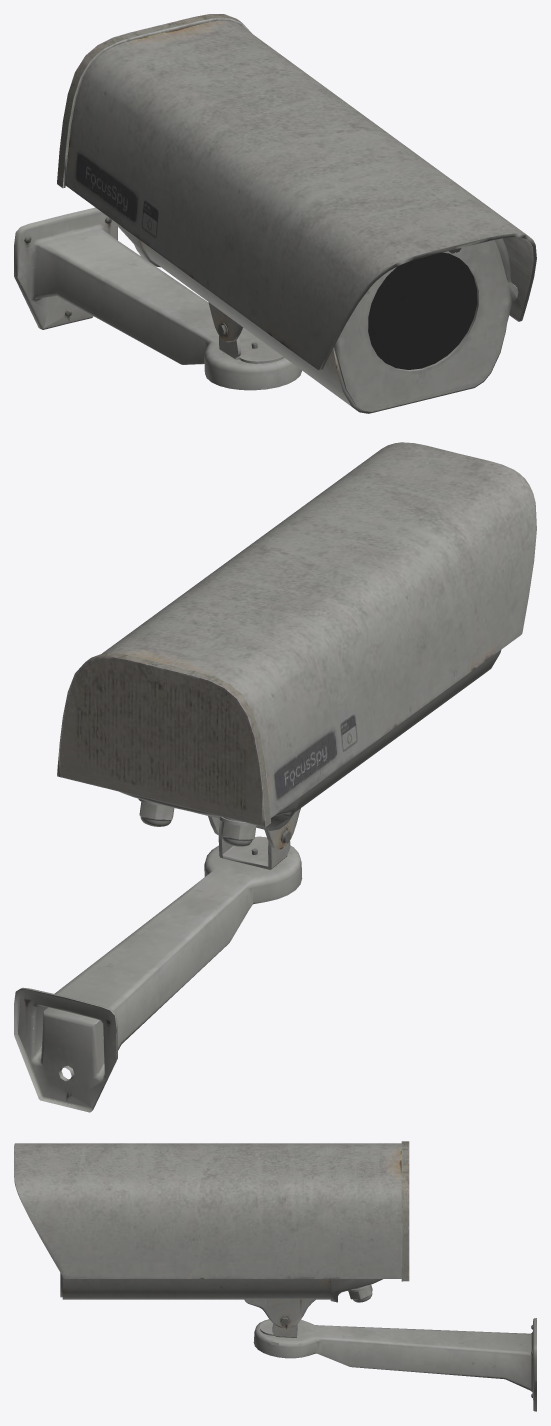
File: ph_security_camera.gltf
The picture shows the model from 3 angles, top to bottom: view 1: azimuth 30°, elevation 25°; view 2: azimuth 150°, elevation 25°; view 3: azimuth 270°, elevation 25°; orthographic projection. The views are drawn at different scales.
Visible parts, largest first — view 1: Body; view 2: Body; view 3: Body.
Part boxes in pixels (box(x1,y1,x2,y2)): Body: box(14, 14, 536, 413); Body: box(14, 442, 536, 1112); Body: box(14, 1141, 536, 1411).
Size of the model in its own units: 0.1695 by 0.2861 by 0.5537.
2 materials, 2 textured.
